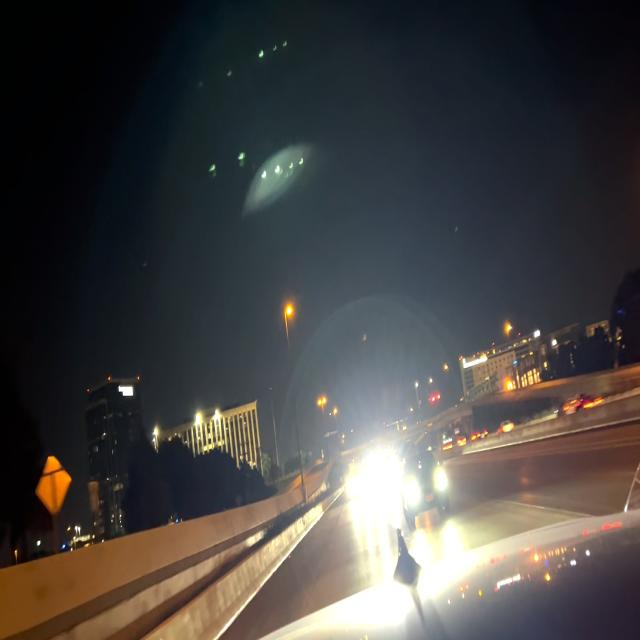back-of-sign: (35, 455, 73, 519)
